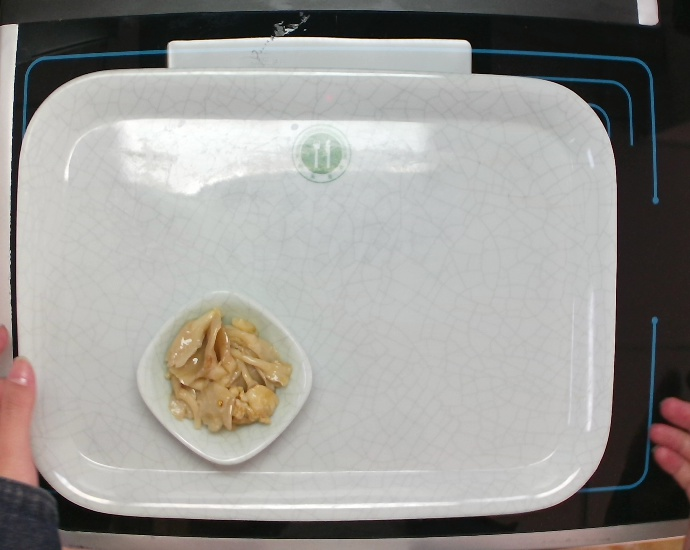JYsf-Si_Fang_Die: (126, 283, 318, 474)
